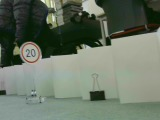speed_20: (19, 41, 43, 64)
